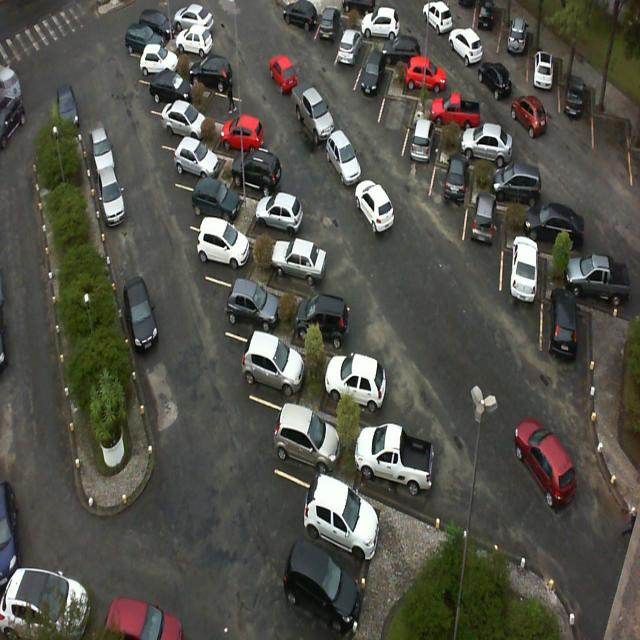car: (285, 537, 363, 629), (305, 472, 380, 559), (2, 567, 89, 640), (517, 417, 580, 509), (353, 422, 432, 494), (273, 402, 340, 473), (243, 330, 307, 398), (326, 349, 388, 411), (102, 593, 183, 640), (292, 296, 348, 355), (524, 196, 587, 248), (564, 255, 630, 303), (191, 177, 247, 231), (194, 216, 250, 268), (546, 285, 580, 369), (0, 479, 21, 613), (124, 274, 160, 350), (225, 277, 275, 329), (234, 151, 284, 200), (176, 135, 234, 177), (271, 236, 325, 280), (491, 163, 540, 210), (174, 2, 216, 56), (299, 90, 337, 149), (354, 181, 394, 236), (462, 121, 514, 163), (507, 238, 538, 306), (327, 128, 363, 185), (95, 162, 126, 228), (432, 90, 484, 128), (257, 193, 305, 234), (190, 55, 234, 99), (160, 102, 207, 142), (217, 115, 263, 155), (513, 94, 552, 136), (149, 70, 193, 106), (0, 90, 26, 148), (139, 44, 178, 82), (440, 157, 468, 209), (54, 80, 80, 136), (354, 47, 383, 97), (406, 57, 446, 93), (448, 27, 484, 66), (473, 186, 495, 248), (477, 63, 513, 100), (361, 8, 399, 41), (269, 56, 299, 96), (125, 24, 162, 56), (282, 0, 319, 30), (90, 125, 114, 171), (423, 1, 452, 36), (335, 29, 362, 66), (316, 6, 342, 43), (412, 114, 431, 162), (563, 76, 585, 116), (532, 51, 554, 90), (508, 16, 527, 60), (139, 9, 171, 32), (0, 62, 21, 97), (477, 0, 495, 30)
